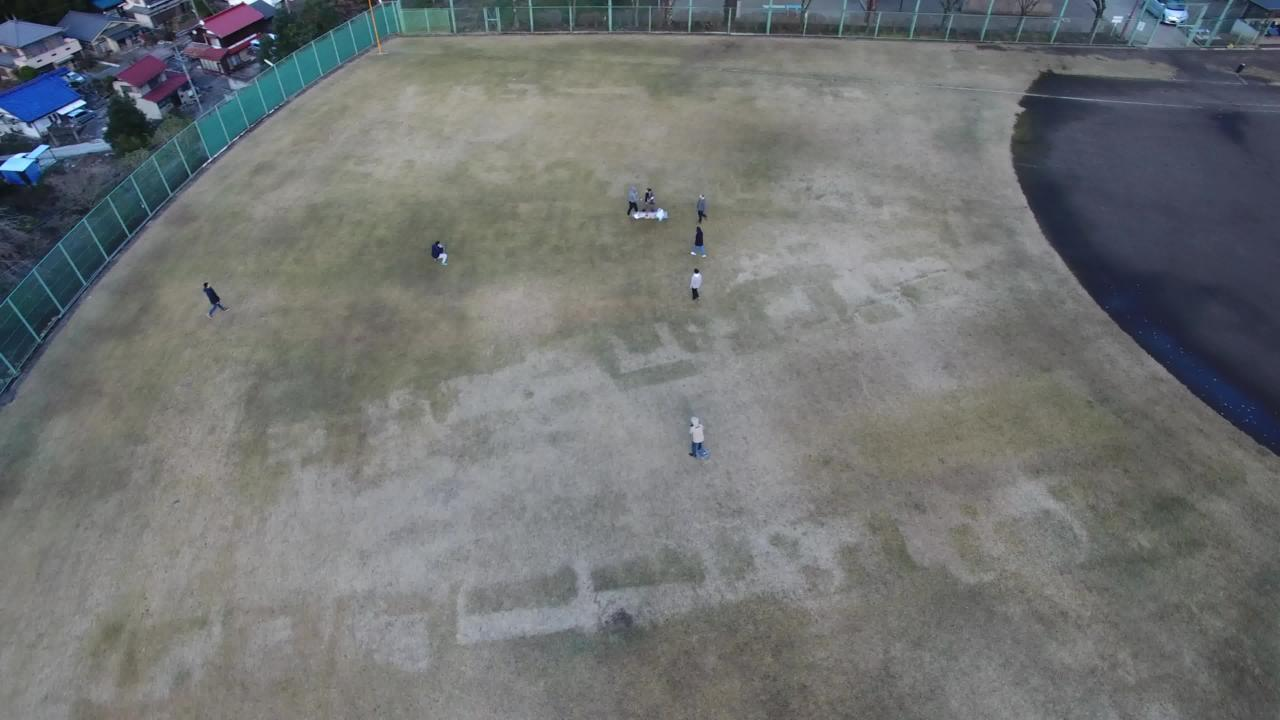person: (674, 406, 722, 473), (196, 274, 232, 320), (692, 221, 718, 271), (682, 265, 715, 303), (422, 231, 449, 268), (697, 192, 717, 234), (623, 180, 635, 213), (642, 180, 649, 208)
